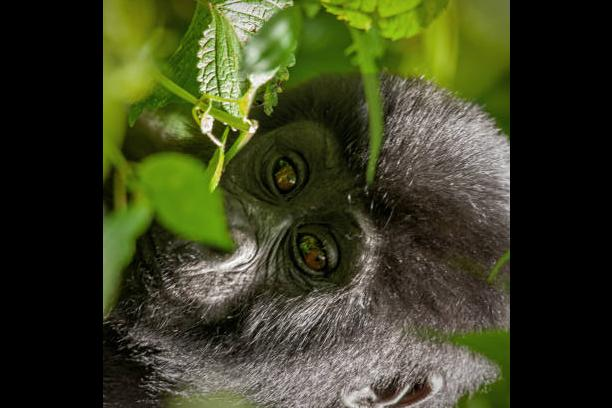goriile_montagne: (102, 87, 510, 408)
